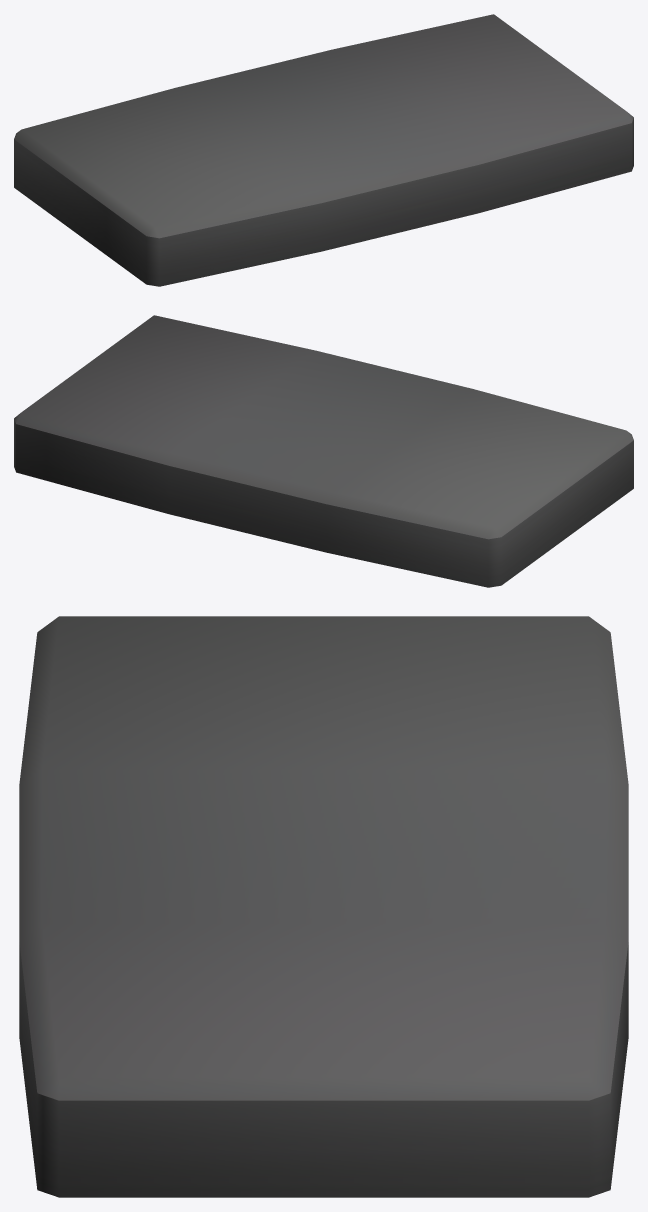
Rendered from Grave_3.glb.
3 renders of one model, top to bottom at view 1: azimuth 30°, elevation 25°; view 2: azimuth 150°, elevation 25°; view 3: azimuth 270°, elevation 25°, orthographic. The views are drawn at different scales.
Parts seen in each view (by area): view 1: Grave_3; view 2: Grave_3; view 3: Grave_3.
Part boxes in pixels (x1=…): Grave_3: x1=14, y1=14, x2=633, y2=286; Grave_3: x1=14, y1=315, x2=633, y2=587; Grave_3: x1=19, y1=616, x2=628, y2=1197.
Bounding box in the file's own units: 1.69 × 0.1866 × 0.9144.
Materials: 1 (1 with a texture image).
